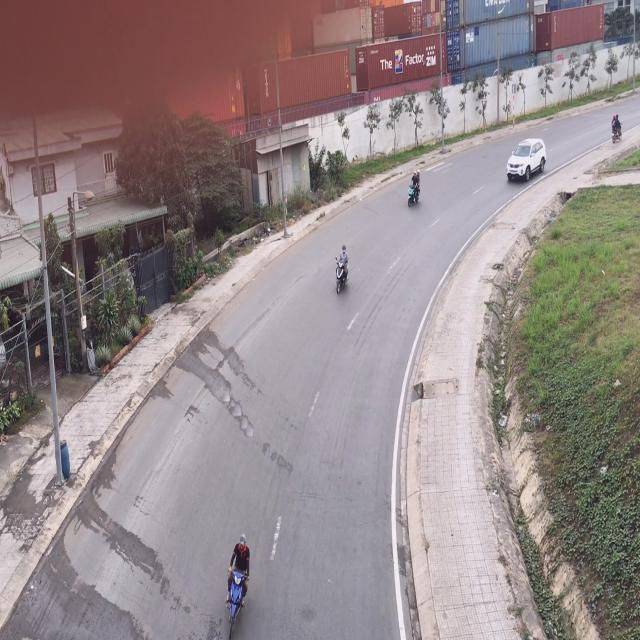car: (504, 140, 546, 186)
motorbike: (225, 533, 248, 637), (334, 245, 352, 298), (407, 166, 423, 210), (611, 110, 625, 143)
